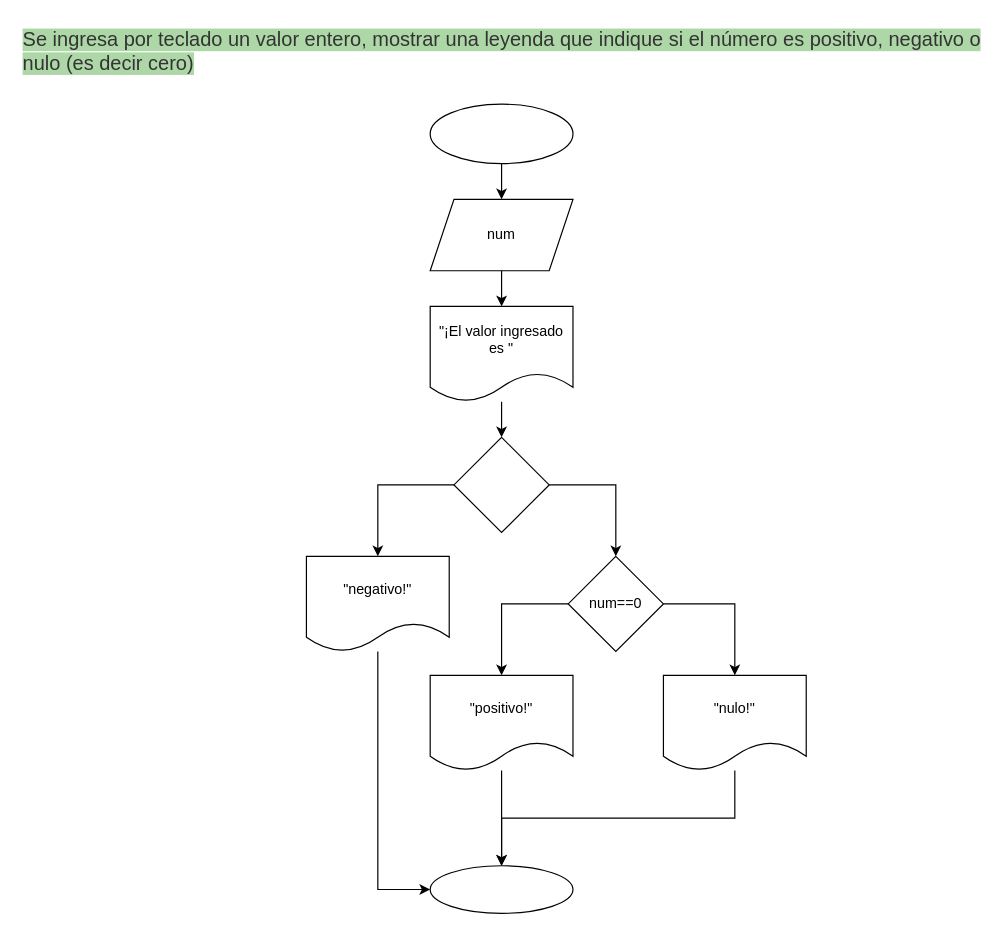
Some shapes in this 1004 by 934 pixel diagram are drawn without their labels. The shapes that lost their labels are listed below. From the top down, each one's centre as x and y in pixels, then its label:
At (x=501, y=133): "inicio".
At (x=501, y=484): "num>=0".
At (x=501, y=889): "fin".
